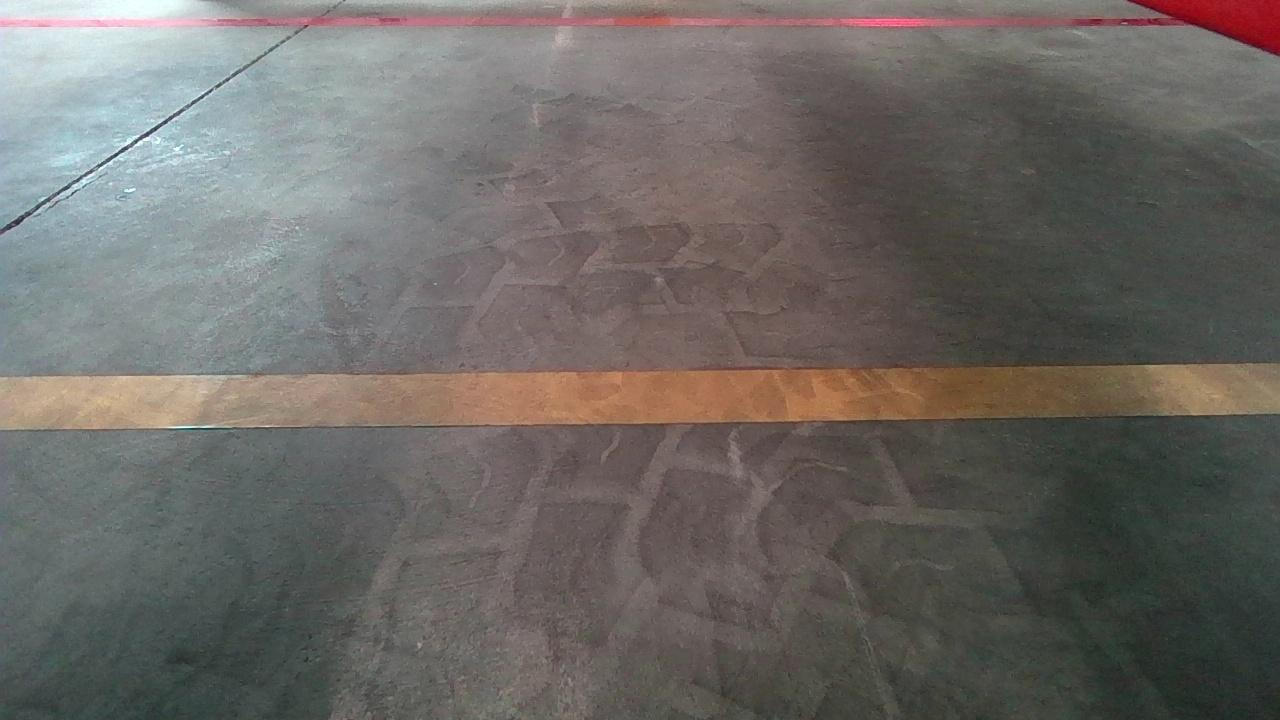yellow_line: (4, 360, 1279, 428)
